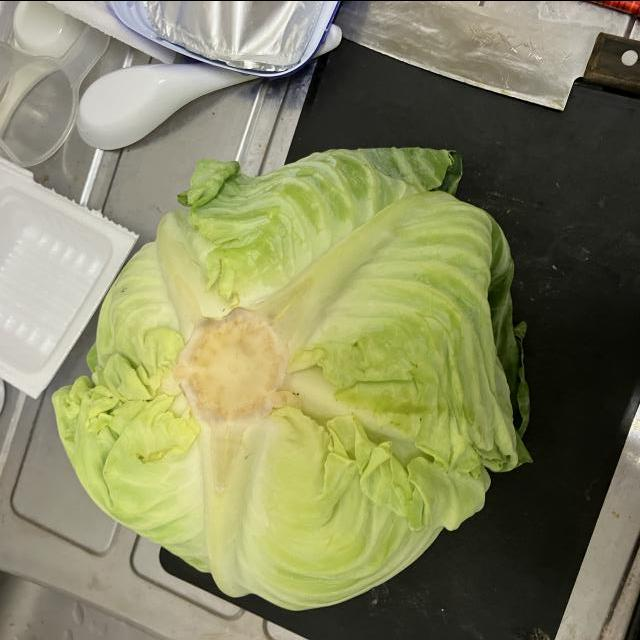cabbage: (50, 140, 543, 613)
